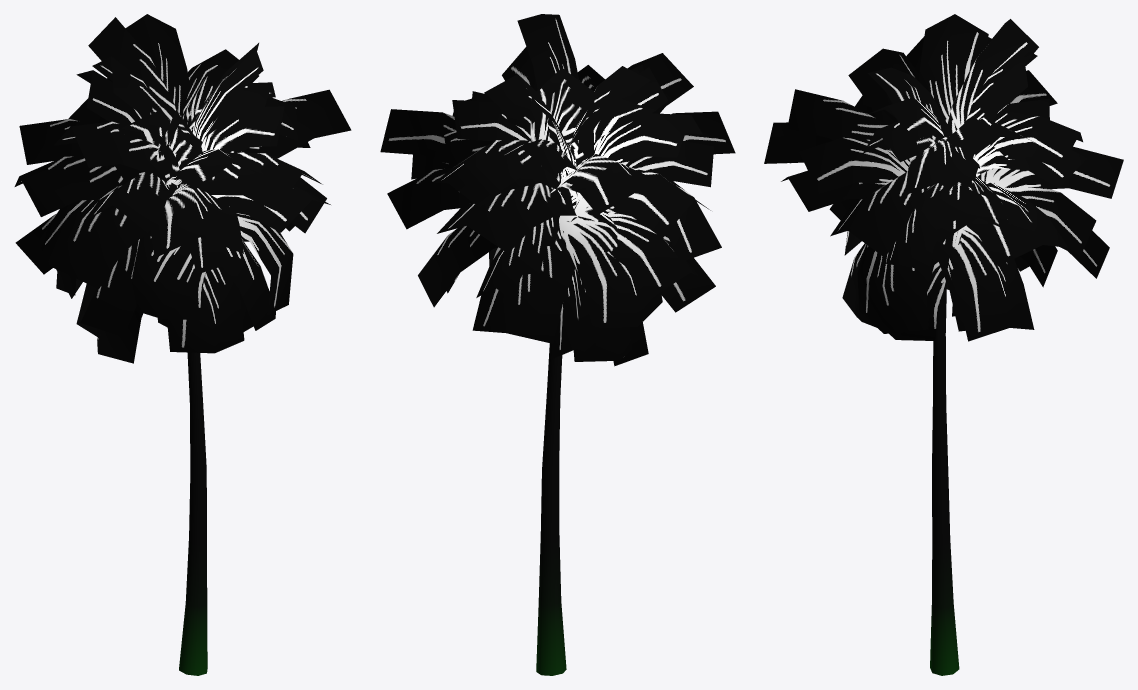
File: P_DesertCoconutPalm04.obj
3 views of the same model, side by side, from view 1: azimuth 30°, elevation 25°; view 2: azimuth 150°, elevation 25°; view 3: azimuth 270°, elevation 25° (orthographic).
Size of the model in its own units: 7.72 by 15.38 by 7.96.
